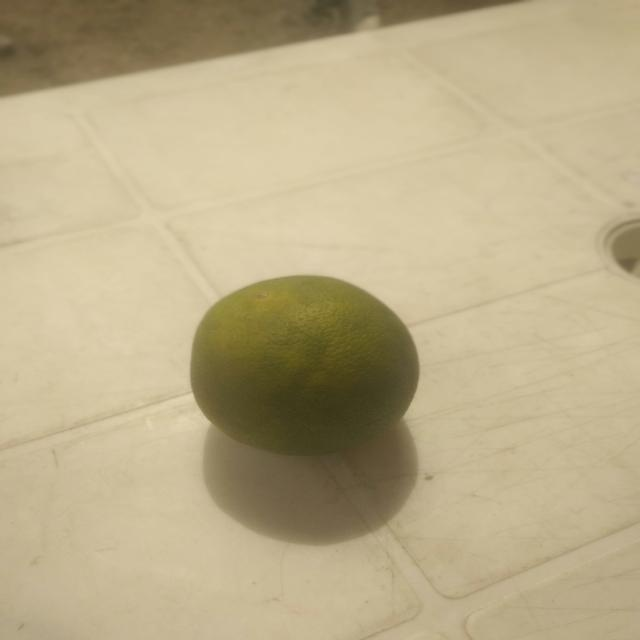agrume: (188, 271, 426, 465)
